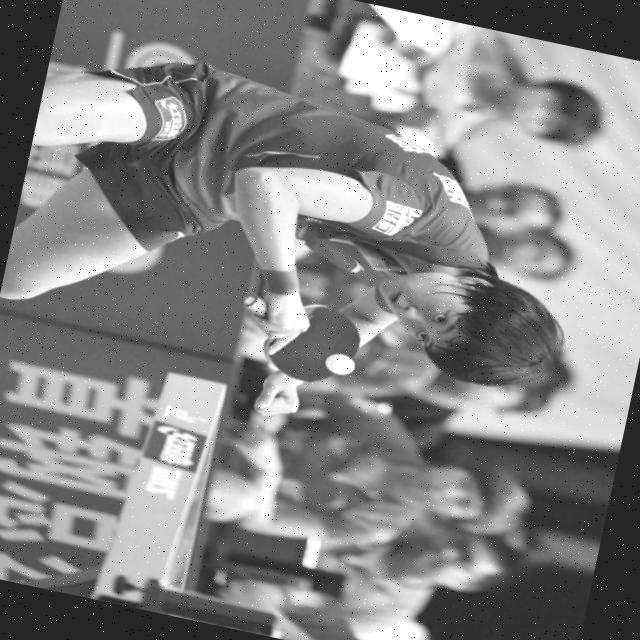ping-pong-ball: (322, 346, 358, 381)
